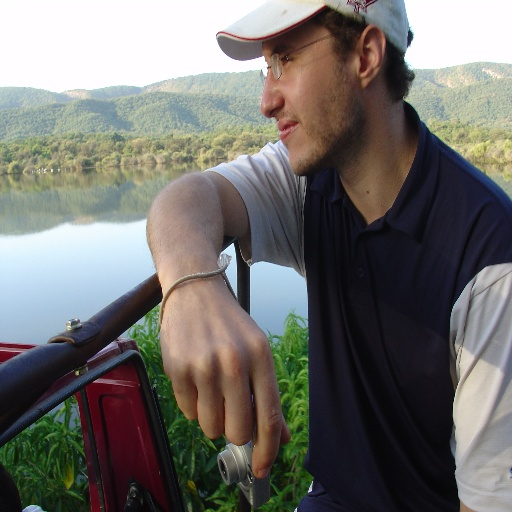hand: (147, 201, 289, 473)
